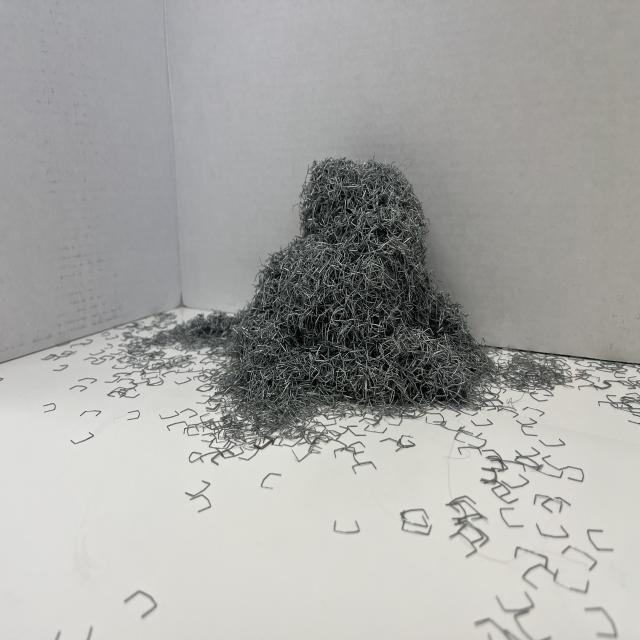staples: (213, 154, 498, 429)
